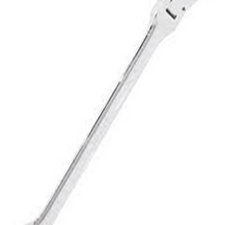Wrench: (7, 1, 196, 225)
